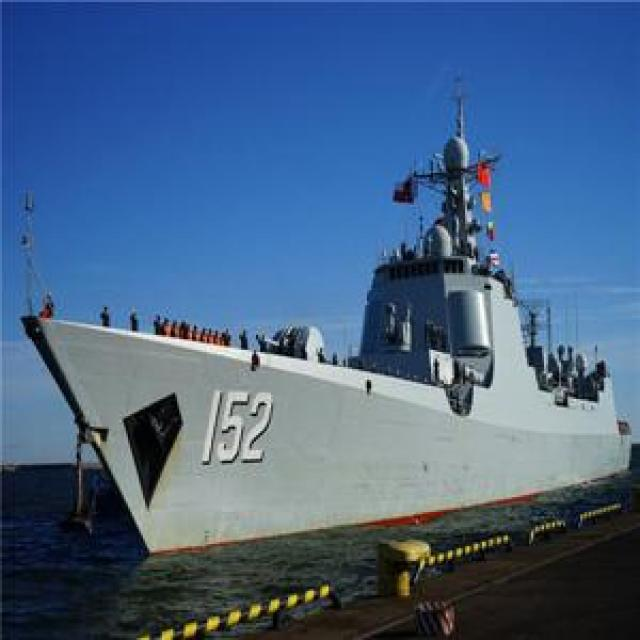navalvessels: (15, 91, 633, 553)
